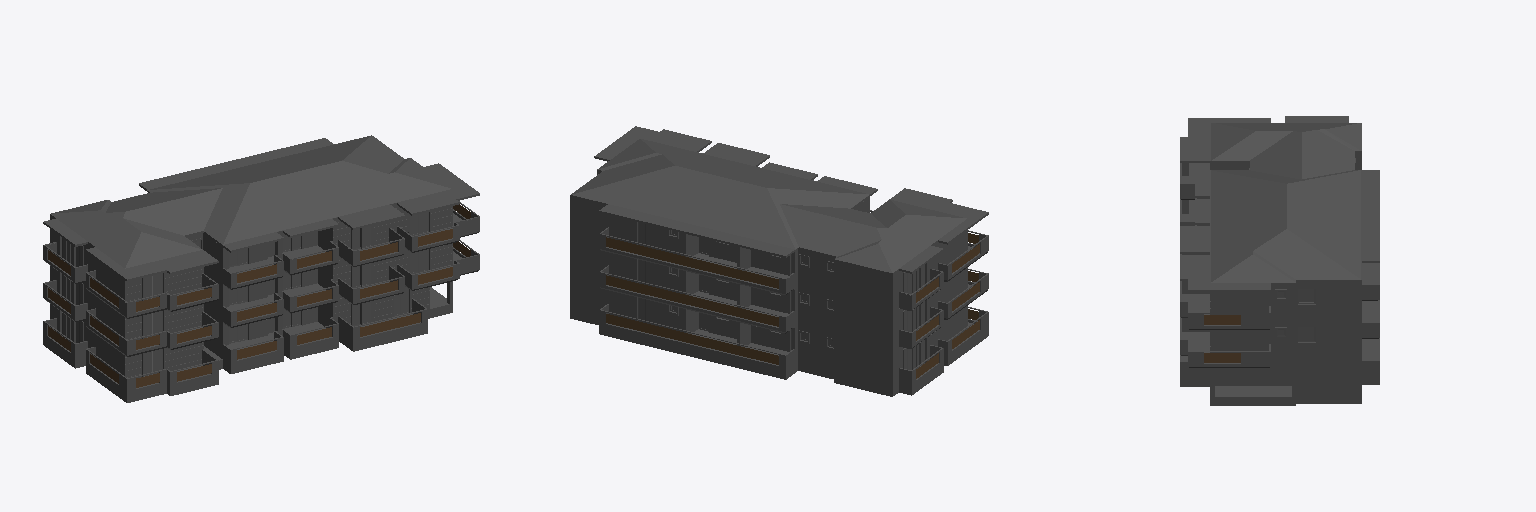
File: bigHouse.obj
3 views of the same model, side by side, from view 1: azimuth 30°, elevation 25°; view 2: azimuth 150°, elevation 25°; view 3: azimuth 270°, elevation 25° (orthographic).
Visible parts, largest first — view 1: roof, Object36, Object77, Object12_Object12.001, Object75, glass, Object82, Object07_Object07.001, Object18_Object18.001, frames, Object08_Object08.001, Object73 (+2 smaller); view 2: Object36, roof, Object77, Object12_Object12.001, Object75, Object82, Object07_Object07.001, glass, Object18_Object18.001, frames, Object08_Object08.001; view 3: roof, Object36, Object77, Object82, Object07_Object07.001, Object73, Object74, Object75, Object03_Object03.001, Object12_Object12.001, Object18_Object18.001.
Boxes of the visible parts, <box> form: roof: <box>51,135,451,268</box>; Object36: <box>50,205,452,377</box>; Object77: <box>43,136,479,281</box>; Object12_Object12.001: <box>48,204,470,387</box>; Object75: <box>43,300,427,402</box>; glass: <box>63,212,427,375</box>; Object82: <box>43,209,479,318</box>; Object07_Object07.001: <box>43,247,479,356</box>; Object18_Object18.001: <box>43,201,479,379</box>; frames: <box>59,211,430,376</box>; Object08_Object08.001: <box>62,212,428,376</box>; Object73: <box>53,287,448,387</box>; Object36: <box>570,172,967,396</box>; roof: <box>571,139,966,272</box>; Object77: <box>570,126,988,274</box>; Object12_Object12.001: <box>606,233,979,378</box>; Object75: <box>599,305,988,395</box>; Object82: <box>599,212,988,310</box>; Object07_Object07.001: <box>599,267,988,348</box>; glass: <box>639,223,924,369</box>; Object18_Object18.001: <box>599,210,988,371</box>; frames: <box>636,222,927,369</box>; Object08_Object08.001: <box>638,222,924,369</box>; roof: <box>1211,123,1361,282</box>; Object36: <box>1210,151,1361,405</box>; Object77: <box>1180,116,1379,291</box>; Object82: <box>1180,163,1379,329</box>; Object07_Object07.001: <box>1180,200,1379,367</box>; Object73: <box>1182,339,1377,396</box>; Object74: <box>1182,163,1377,314</box>; Object75: <box>1180,362,1379,386</box>; Object03_Object03.001: <box>1182,200,1377,352</box>; Object12_Object12.001: <box>1204,315,1240,362</box>; Object18_Object18.001: <box>1180,163,1379,362</box>.
Size of the model in its own units: 49.32 by 18.77 by 23.85.